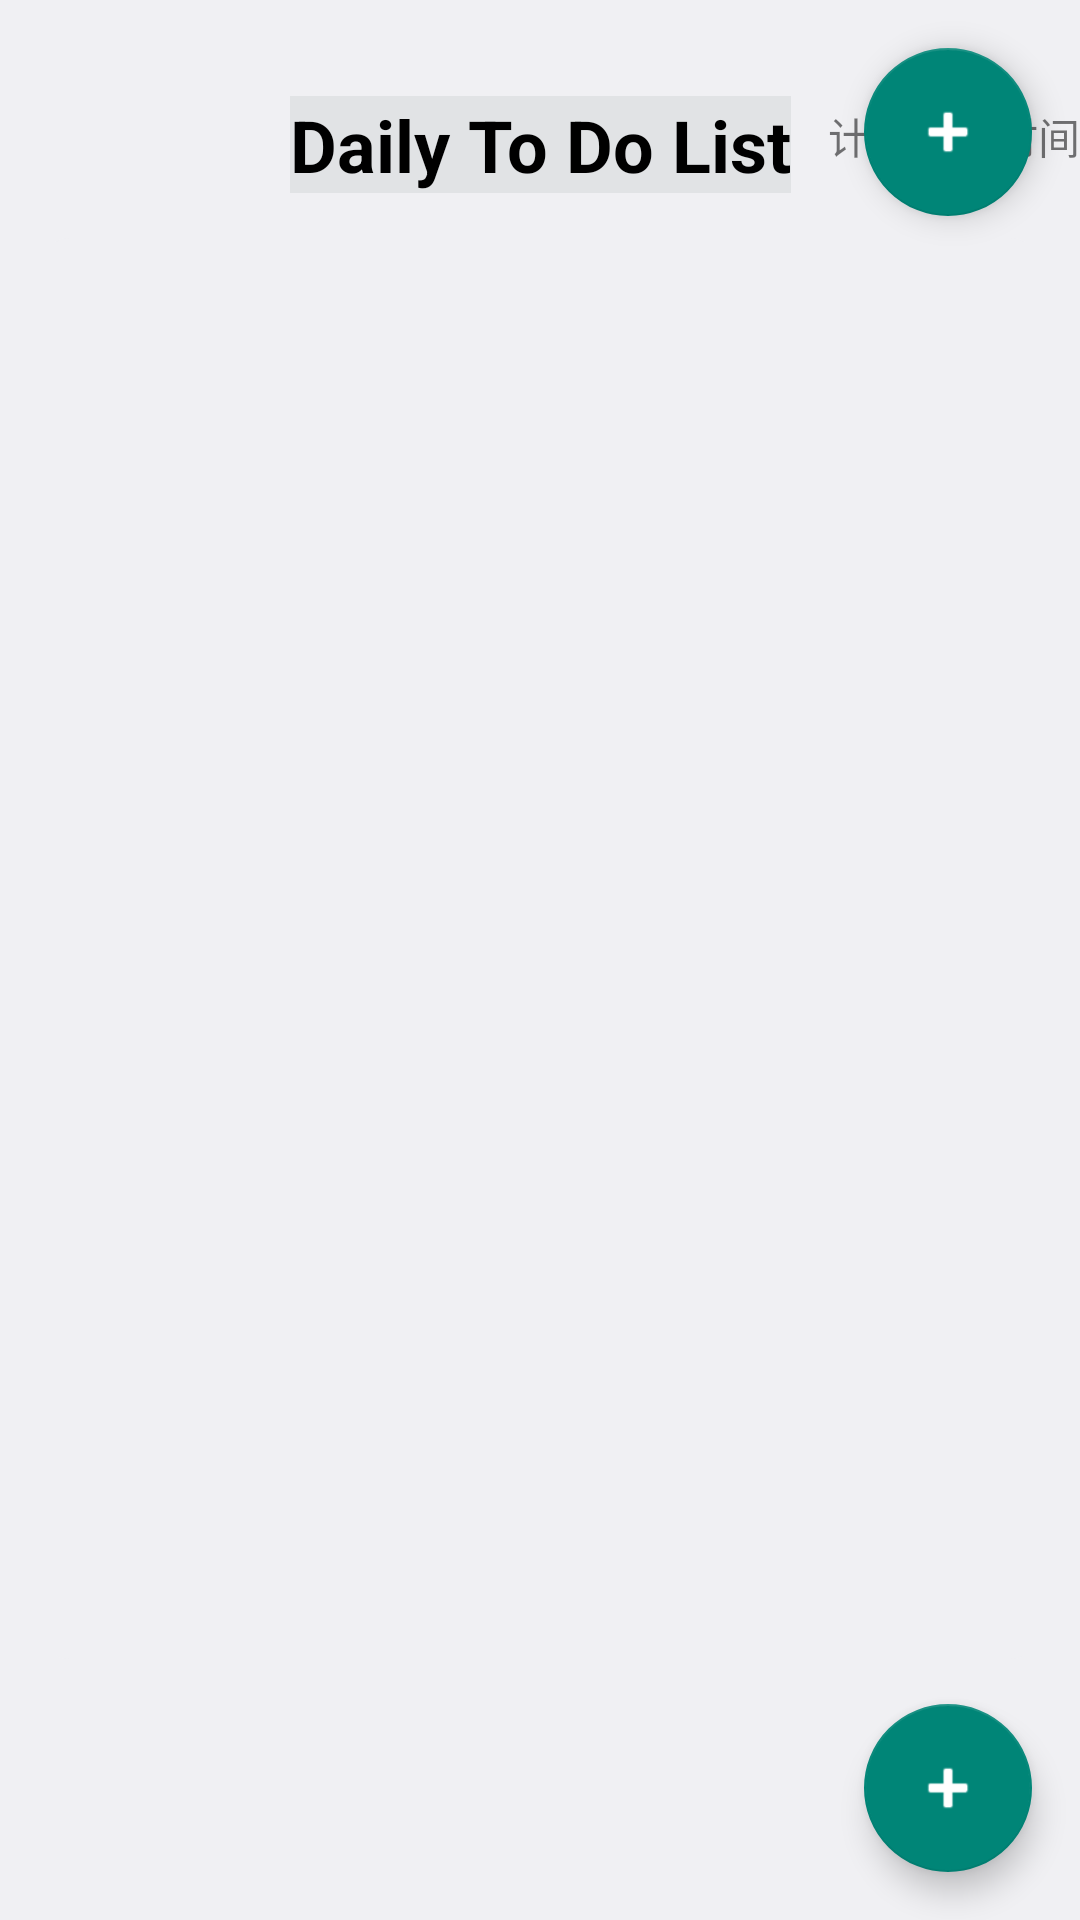

Icon bounding boxes for this 1080×1920 phone screenshot, format (x1, y1, x2, y2):
add: (864, 48, 1032, 216), (864, 1704, 1032, 1872)
